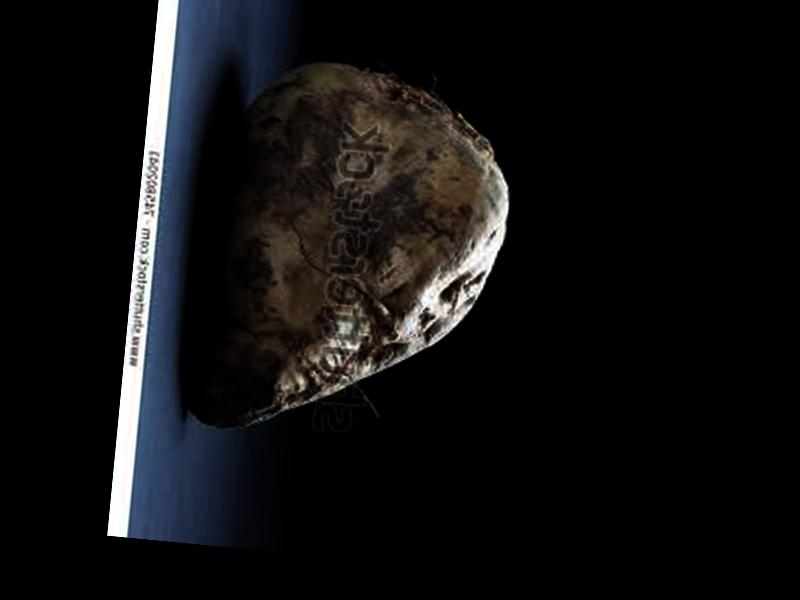Beet: (189, 47, 519, 447)
